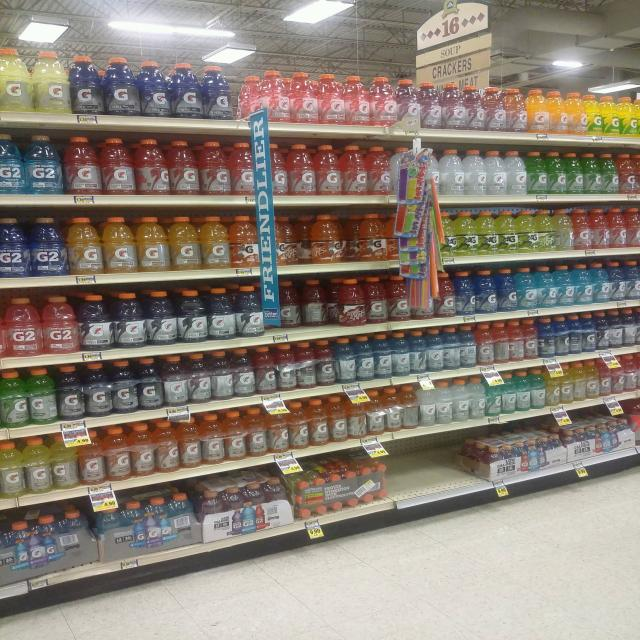empty: (387, 430, 475, 504)
